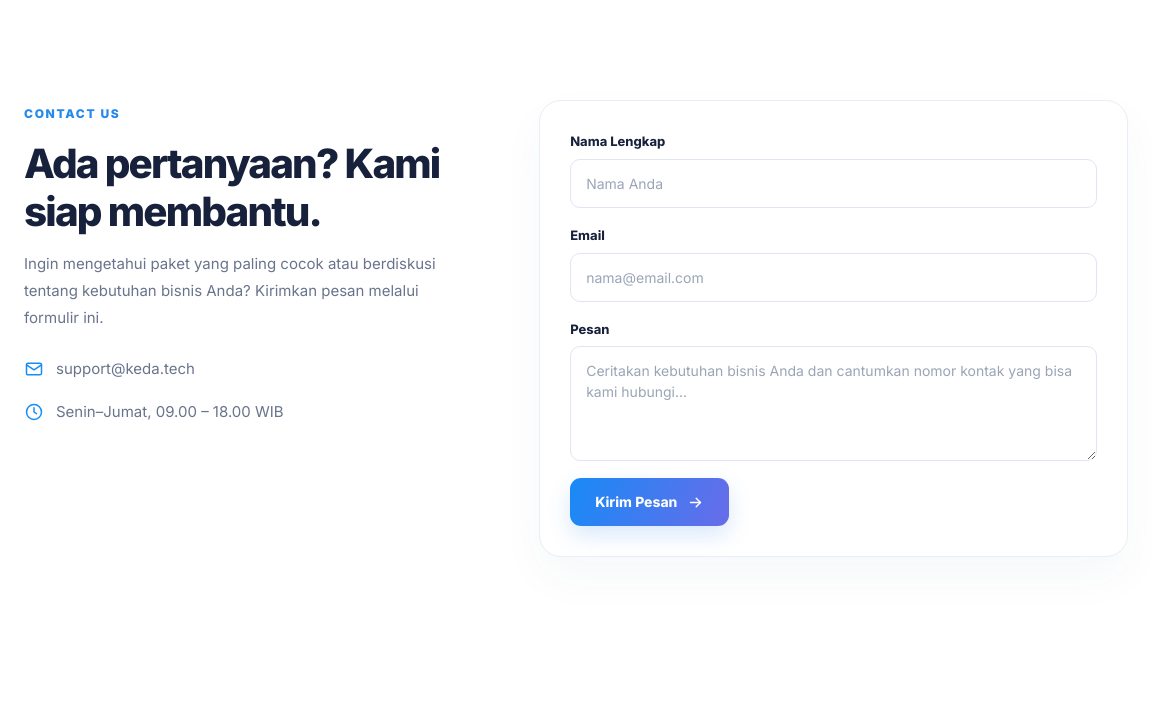
Test: Contact › should display success message and reset form
The width and height of the screenshot is (1152, 720).
Type "Rizky" into the field labelled "Nama Lengkap" at (834,183), box [570,159,1097,208]
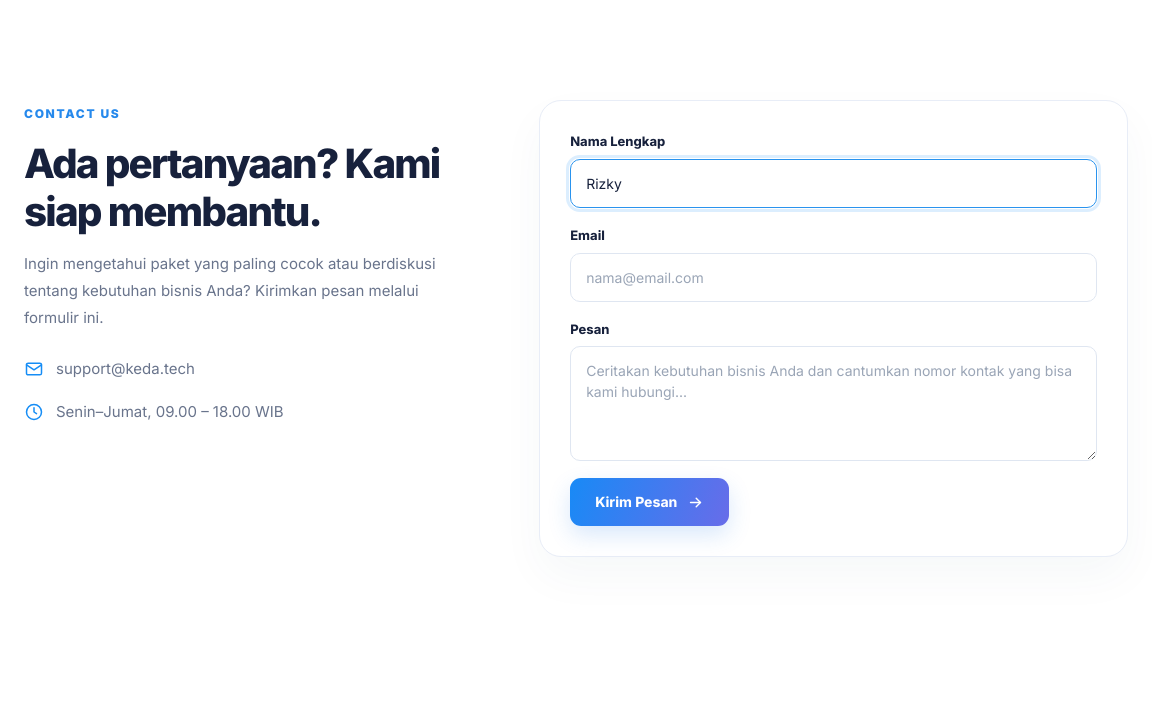
Type "rizky@example.com" into the field labelled "Email" at (834,277), box [570,253,1097,302]
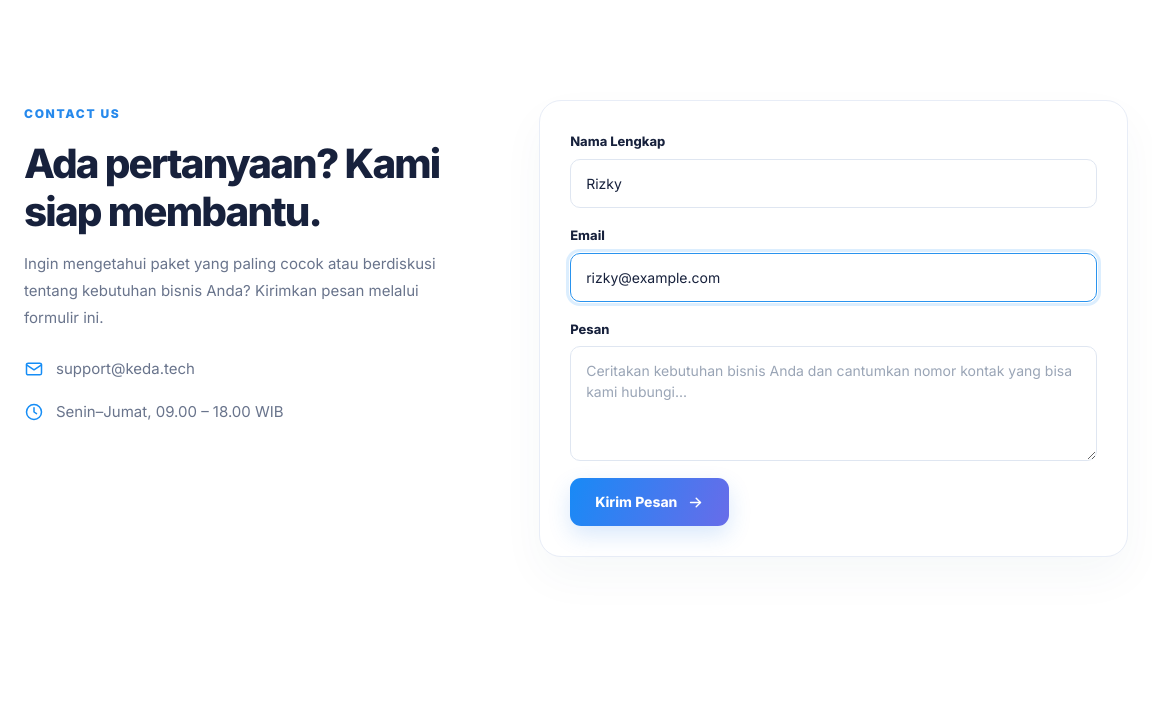
Type "Saya tertarik menggunakan KeDA Tech ERP." into the text box labelled "Pesan" at (834,404), box [570,346,1097,461]
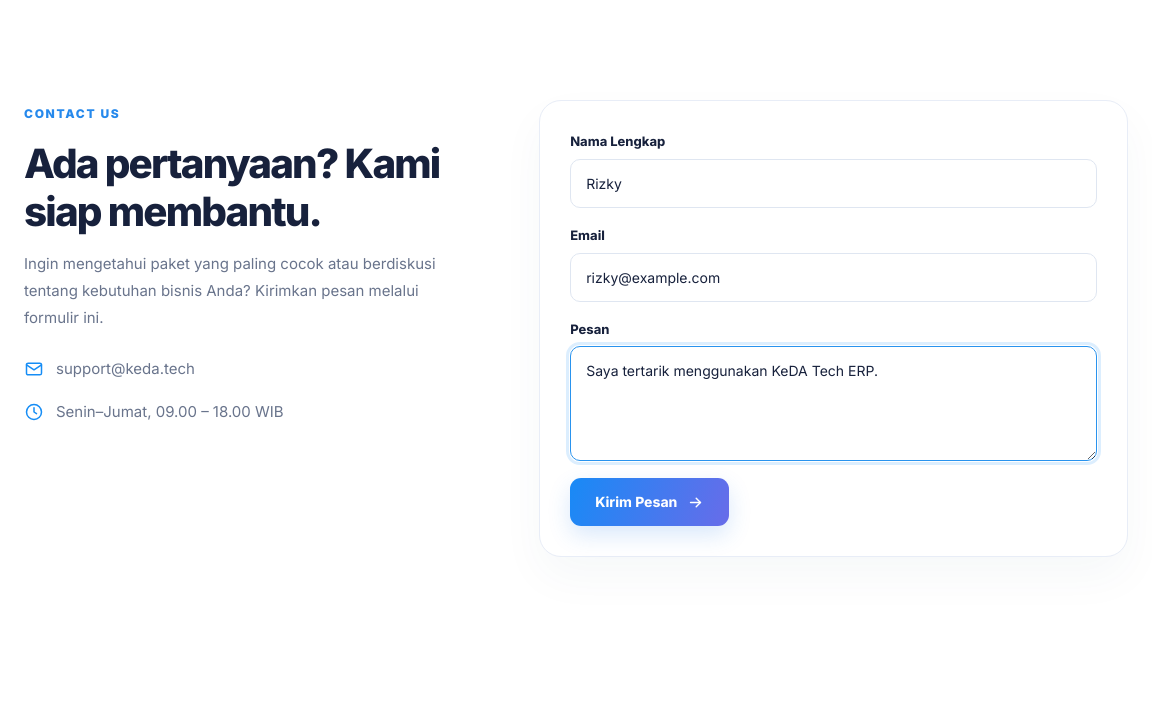
Click the button "Kirim Pesan" at (650,502), box [570,478,729,526]
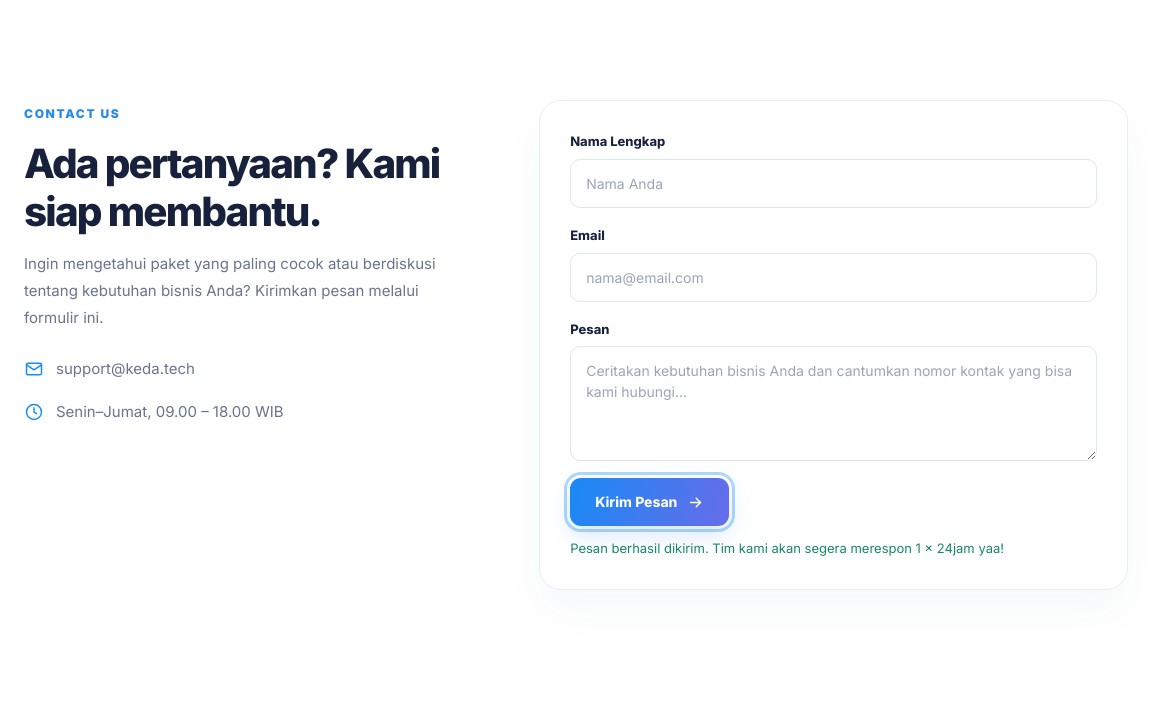
Check: the message reads "Pesan berhasil dikirim. Tim kami akan segera merespon 1 x 24jam yaa!", box [570,540,1004,556]
Check: the field labelled "Nama Lengkap" is empty, box [570,159,1097,208]
Check: the field labelled "Email" is empty, box [570,253,1097,302]
